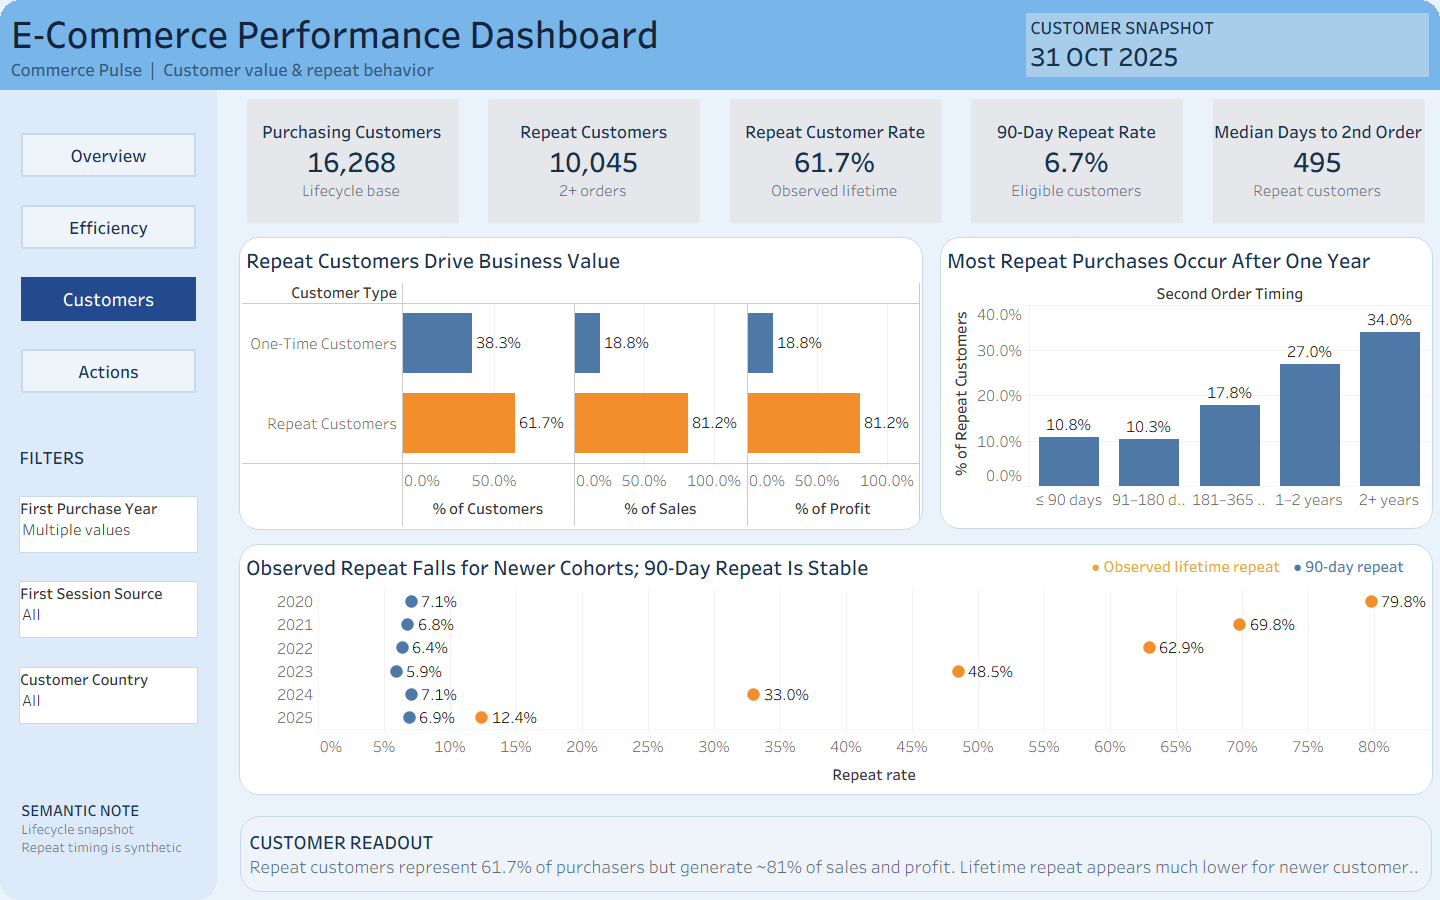

Layout of this report page (visuals, bound fields, positions):
{"tool":"tableau","page":{"name":"Page 3 - Customer Value","canvas":[1440,900],"ordinal":2},"visuals":[{"type":"text","box":[0,0,989,90]},{"type":"blank","box":[989,0,451,90]},{"type":"text","box":[1022.4,9,410.4,72]},{"type":"blank","box":[0,90,217.1,810]},{"type":"worksheet","title":"Page 3 KPIs","mark":"Text","cols":["Calculation_230201","Calculation_230202","Calculation_230203","Calculation_230204","Calculation_230205"],"box":[231.6,99,1208.4,124]},{"type":"dashboard-object","box":[14.5,126,188.1,58.5]},{"type":"dashboard-object","box":[14.5,198,188.1,58.5]},{"type":"worksheet","title":"Repeat Customers Drive Business Value","mark":"Automatic","rows":["Calculation_231301"],"cols":["Calculation_231302","Calculation_231303","Calculation_231304"],"box":[231.6,229.6,698.4,307.4]},{"type":"worksheet","title":"Most Repeat Purchases Occur After One Year","mark":"Bar","rows":["Calculation_231402"],"cols":["Calculation_231401"],"box":[933,229.6,507,306.4]},{"type":"dashboard-object","box":[14.5,270,188.1,58.5]},{"type":"dashboard-object","box":[14.5,342,188.1,58.5]},{"type":"text","box":[14.5,441,188.1,31.5]},{"type":"filter","title":"Most Repeat Purchases Occur After One Year","param":"[federated.1nhaksj10ll3n211qlf9f1dqy2a7].[yr:first_order_at:ok]","box":[14.5,490.5,188.1,67.5]},{"type":"worksheet","title":"Observed Repeat Falls for Newer Cohorts; 90-Day Repeat Is Stable","mark":"Circle","rows":["first_order_at"],"box":[231.6,537,1208.4,265]},{"type":"text","box":[1088,546,329,40]},{"type":"filter","title":"Most Repeat Purchases Occur After One Year","param":"[federated.1nhaksj10ll3n211qlf9f1dqy2a7].[none:first_session_source:nk]","box":[14.5,576,188.1,67.5]},{"type":"filter","title":"Most Repeat Purchases Occur After One Year","param":"[federated.1nhaksj10ll3n211qlf9f1dqy2a7].[none:customer_country:nk]","box":[14.5,661.5,188.1,67.5]},{"type":"blank","box":[771,764,129.6,23.4]},{"type":"text","box":[14.5,787.5,188.1,81]},{"type":"text","box":[231.6,808.2,1208.4,91.8]}]}

Visuals, with their boxes in screenshot pixels (x1, y1, x2, y2), scaled from the page's 1440x900 canvas onto the 1440x900 screenshot:
text: [0, 0, 989, 90]
blank: [989, 0, 1439, 90]
text: [1022, 9, 1433, 81]
blank: [0, 90, 217, 899]
"Page 3 KPIs" worksheet (Text marks): [232, 99, 1439, 223]
dashboard-object: [14, 126, 203, 184]
dashboard-object: [14, 198, 203, 256]
"Repeat Customers Drive Business Value" worksheet: [232, 230, 930, 537]
"Most Repeat Purchases Occur After One Year" worksheet (Bar marks): [933, 230, 1439, 536]
dashboard-object: [14, 270, 203, 328]
dashboard-object: [14, 342, 203, 400]
text: [14, 441, 203, 472]
"Most Repeat Purchases Occur After One Year" filter: [14, 490, 203, 558]
"Observed Repeat Falls for Newer Cohorts; 90-Day Repeat Is Stable" worksheet (Circle marks): [232, 537, 1439, 802]
text: [1088, 546, 1417, 586]
"Most Repeat Purchases Occur After One Year" filter: [14, 576, 203, 644]
"Most Repeat Purchases Occur After One Year" filter: [14, 662, 203, 729]
blank: [771, 764, 901, 787]
text: [14, 788, 203, 868]
text: [232, 808, 1439, 899]
